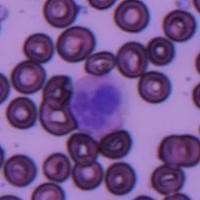N: (70, 75, 127, 139)
